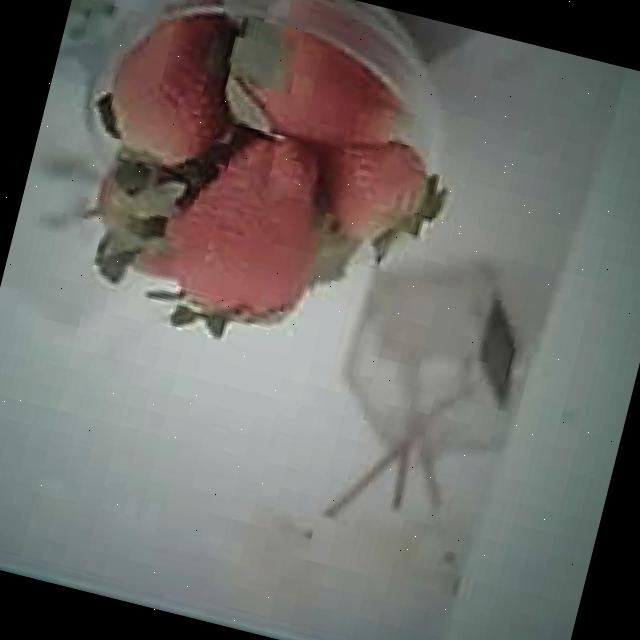strawberry: (155, 124, 336, 332), (103, 0, 243, 172)
